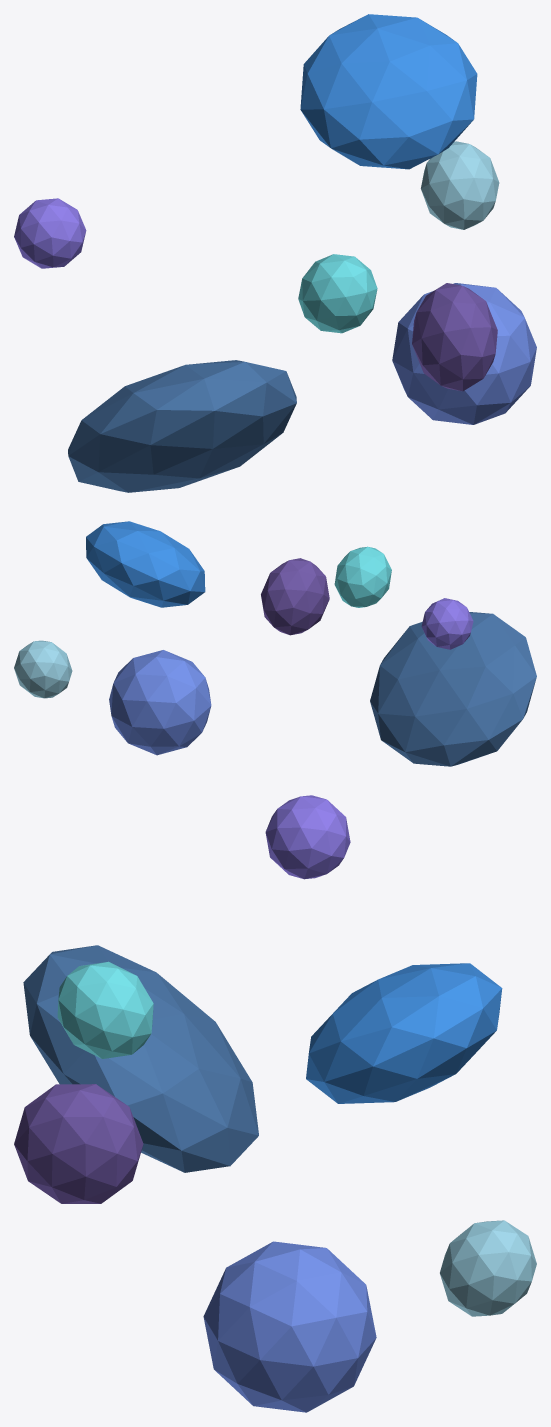
The model's file is blobs.glb.
3 renders of one model, top to bottom at view 1: azimuth 30°, elevation 25°; view 2: azimuth 150°, elevation 25°; view 3: azimuth 270°, elevation 25°, orthographic. The views are drawn at different scales.
Parts seen in each view (by area): view 1: Icosphere.005, Icosphere.002, Icosphere, Icosphere.004, Icosphere.003, Icosphere.001, Icosphere.006; view 2: Icosphere.005, Icosphere, Icosphere.002, Icosphere.004, Icosphere.001, Icosphere.003, Icosphere.006; view 3: Icosphere.005, Icosphere, Icosphere.002, Icosphere.004, Icosphere.001, Icosphere.003, Icosphere.006.
Boxes of the visible parts, x1,y1,x2,y2 form: Icosphere.005: [68, 360, 296, 492]; Icosphere.002: [300, 14, 477, 169]; Icosphere: [392, 283, 536, 424]; Icosphere.004: [412, 283, 497, 391]; Icosphere.003: [420, 141, 499, 229]; Icosphere.001: [298, 254, 377, 333]; Icosphere.006: [14, 198, 86, 268]; Icosphere.005: [370, 612, 536, 766]; Icosphere: [109, 650, 211, 755]; Icosphere.002: [86, 521, 205, 607]; Icosphere.004: [261, 558, 329, 635]; Icosphere.001: [334, 546, 391, 607]; Icosphere.003: [14, 640, 72, 698]; Icosphere.006: [421, 598, 473, 649]; Icosphere.005: [23, 945, 258, 1172]; Icosphere: [203, 1241, 376, 1412]; Icosphere.002: [306, 963, 502, 1103]; Icosphere.004: [14, 1084, 143, 1203]; Icosphere.001: [57, 961, 153, 1058]; Icosphere.003: [440, 1220, 536, 1316]; Icosphere.006: [265, 795, 350, 879].
Bounding box in the file's own units: 12.41 × 7.48 × 8.41.
